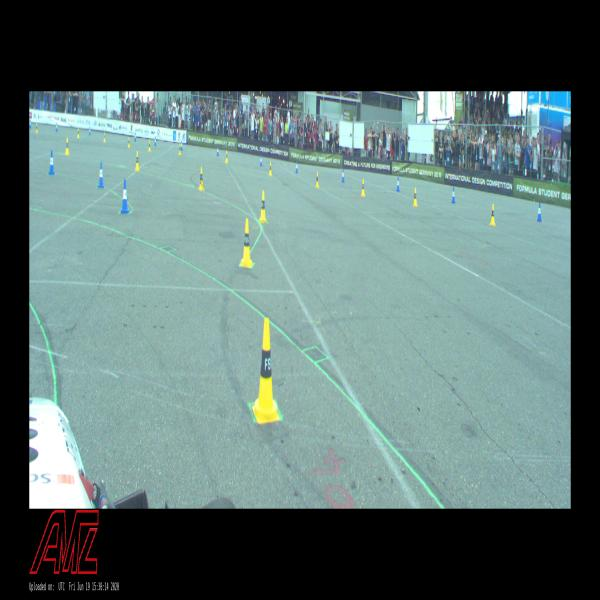blue_cone: (120, 179, 130, 214), (98, 162, 104, 188), (48, 150, 54, 174), (537, 202, 542, 222), (452, 187, 456, 204), (396, 176, 400, 192), (154, 136, 157, 146), (342, 168, 344, 183), (296, 161, 298, 174), (88, 127, 91, 135), (217, 145, 219, 156), (260, 155, 262, 166), (134, 132, 136, 142), (181, 141, 183, 151), (56, 123, 58, 132), (30, 120, 32, 128)
yellow_cone: (252, 318, 280, 424), (240, 218, 252, 267), (260, 190, 266, 222), (199, 167, 204, 190), (490, 204, 495, 225), (135, 151, 140, 171), (413, 188, 417, 206), (361, 179, 365, 196), (66, 138, 70, 154), (315, 172, 319, 188), (148, 140, 152, 152), (269, 162, 272, 175), (77, 128, 80, 138), (103, 132, 106, 142), (226, 151, 228, 163), (179, 144, 181, 155), (36, 123, 38, 133), (128, 137, 130, 147)
